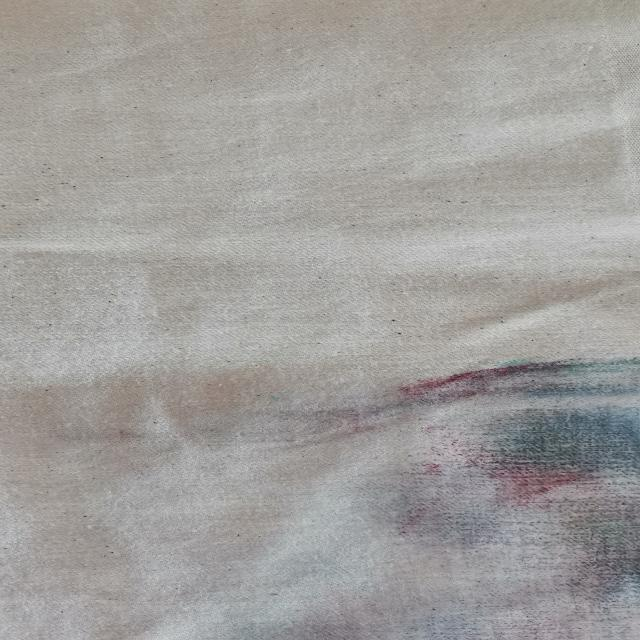taaaches: (260, 352, 640, 640)
